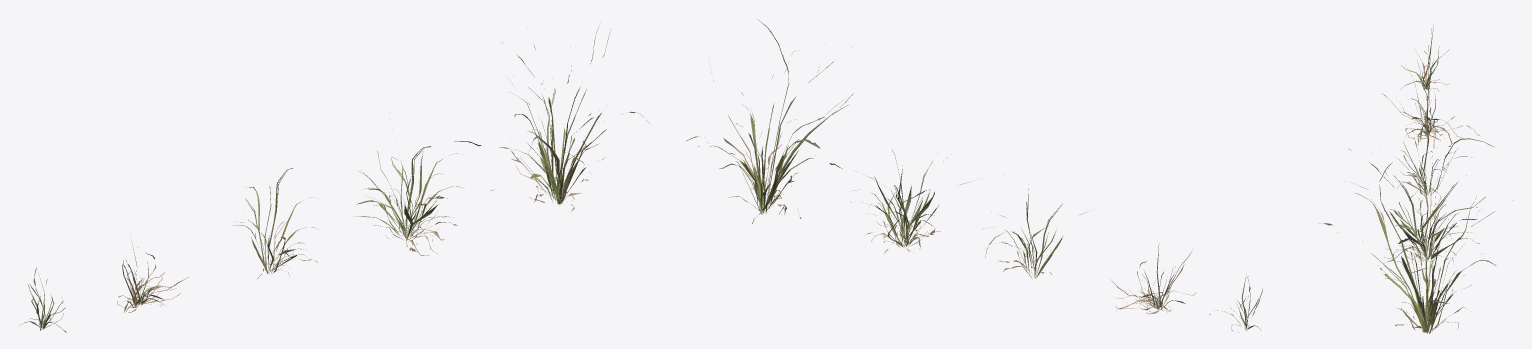
Rendered from grass.glb.
3 renders of one model, left to right at view 1: azimuth 30°, elevation 25°; view 2: azimuth 150°, elevation 25°; view 3: azimuth 270°, elevation 25°, orthographic. The views are drawn at different scales.
Visible parts, largest first — view 1: grass_medium_02_e, grass_medium_02_d, grass_medium_02_c, grass_medium_02_b, grass_medium_02_a; view 2: grass_medium_02_e, grass_medium_02_d, grass_medium_02_c, grass_medium_02_b; view 3: grass_medium_02_e, grass_medium_02_d, grass_medium_02_b, grass_medium_02_c, grass_medium_02_a.
Part boxes in pixels (bbox=[...]): grass_medium_02_e: bbox=[454, 27, 649, 211]; grass_medium_02_d: bbox=[353, 112, 463, 255]; grass_medium_02_c: bbox=[233, 168, 318, 278]; grass_medium_02_b: bbox=[117, 241, 188, 312]; grass_medium_02_a: bbox=[21, 267, 66, 332]; grass_medium_02_e: bbox=[686, 20, 853, 223]; grass_medium_02_d: bbox=[850, 150, 969, 253]; grass_medium_02_c: bbox=[983, 189, 1086, 278]; grass_medium_02_b: bbox=[1110, 243, 1196, 314]; grass_medium_02_e: bbox=[1319, 148, 1496, 333]; grass_medium_02_d: bbox=[1346, 148, 1485, 272]; grass_medium_02_b: bbox=[1382, 59, 1479, 148]; grass_medium_02_c: bbox=[1397, 98, 1494, 212]; grass_medium_02_a: bbox=[1400, 24, 1449, 91].
Size of the model in its own units: 1.29 by 0.4038 by 0.4318.
Materials: 1 (1 with a texture image).
